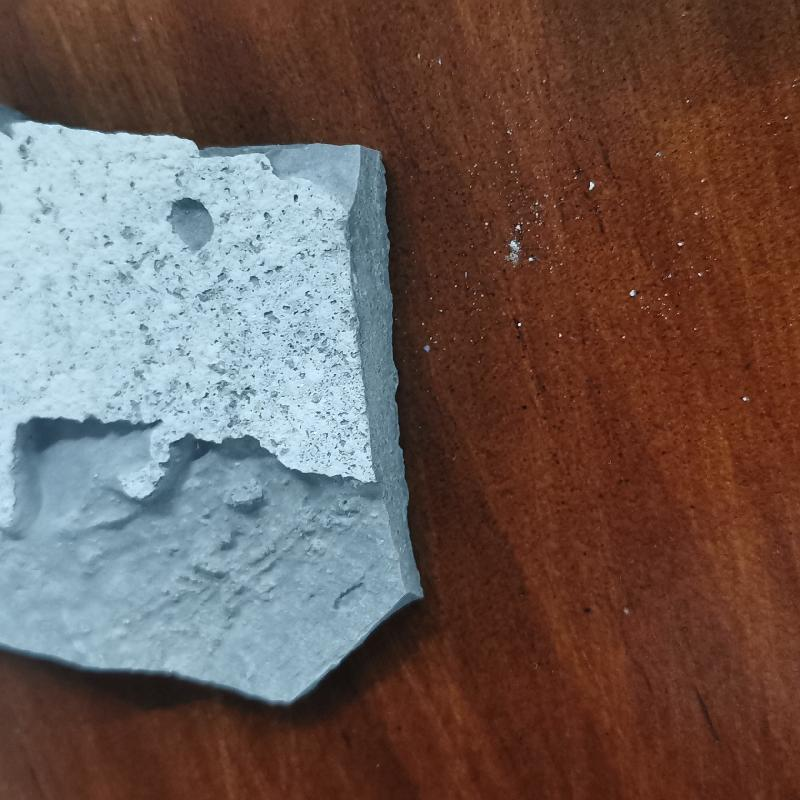tile: (1, 94, 415, 708)
